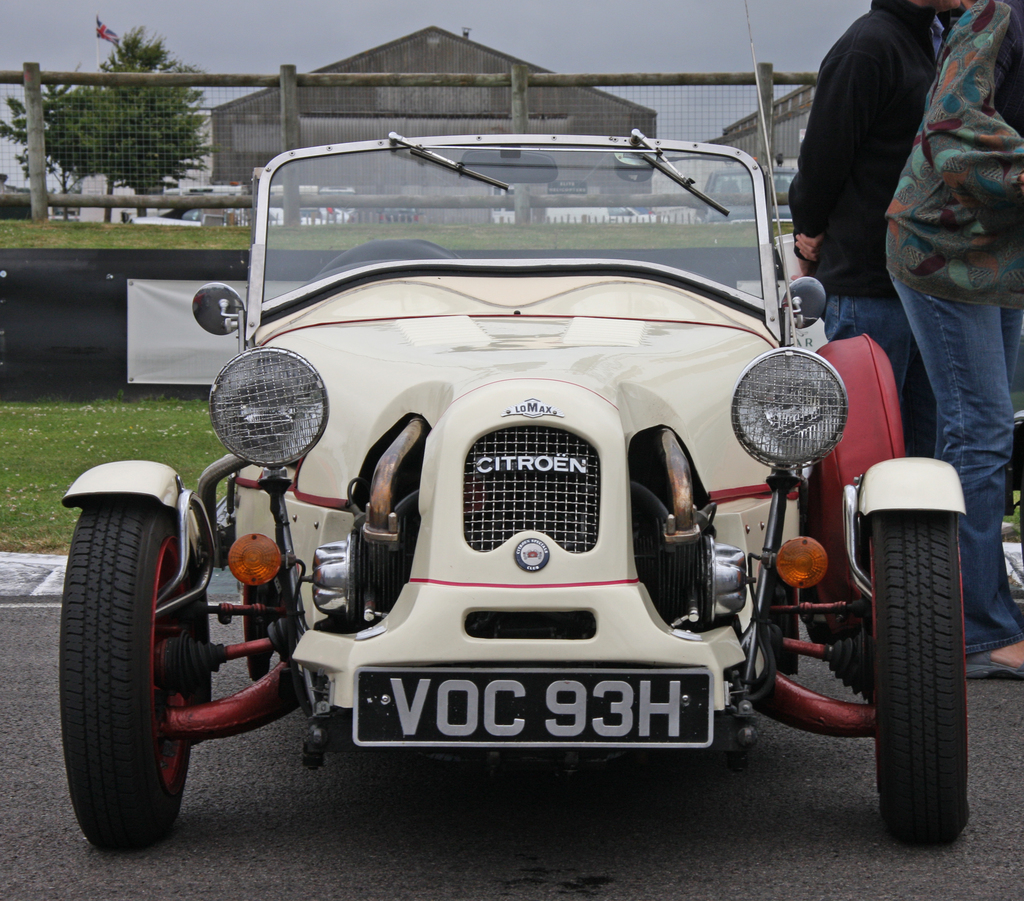Car: (55, 124, 968, 849), (128, 193, 668, 227), (696, 164, 801, 219)
